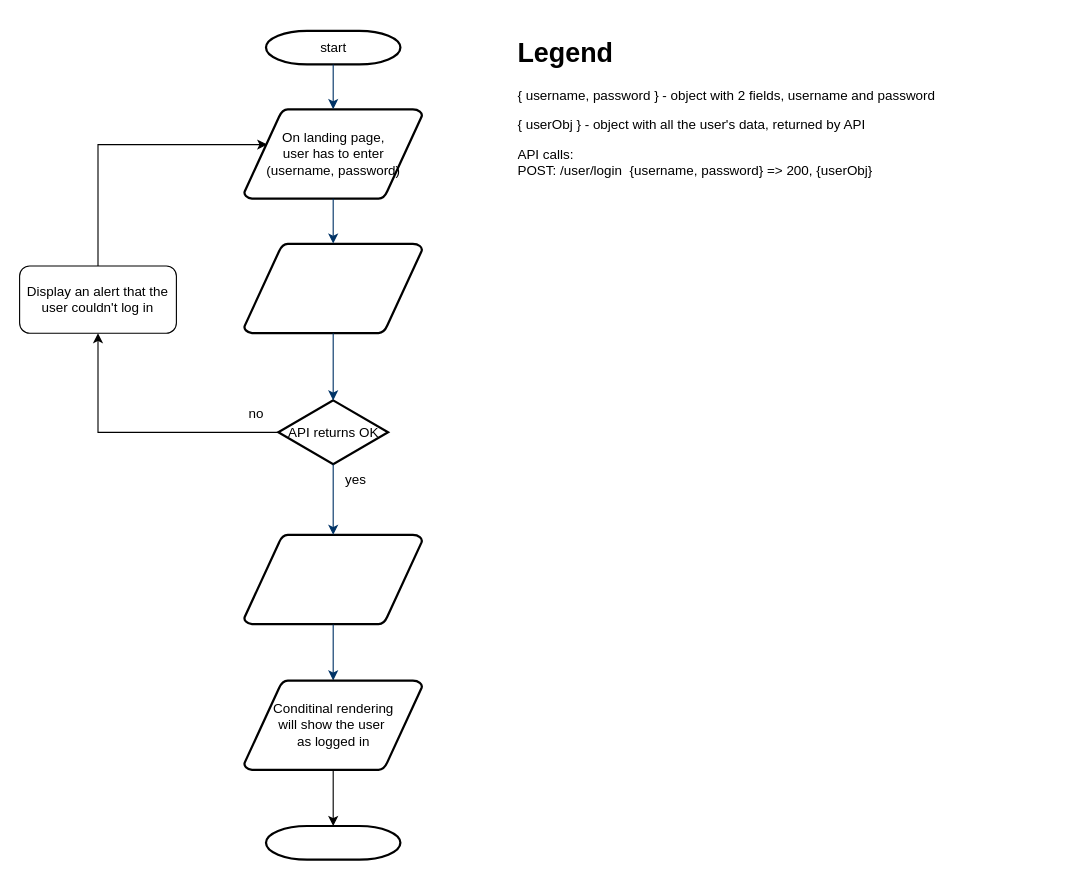
This 1070x879 diagram has some shape labels left out. Here are the shapes that lost their labels. From the top down, the centre of each, then its label:
the point at 332,288: Website will call API POST /user/login {username, password}
the point at 332,579: { userObj } retruned by API is saved in state by calling it's setter
the point at 332,842: end
